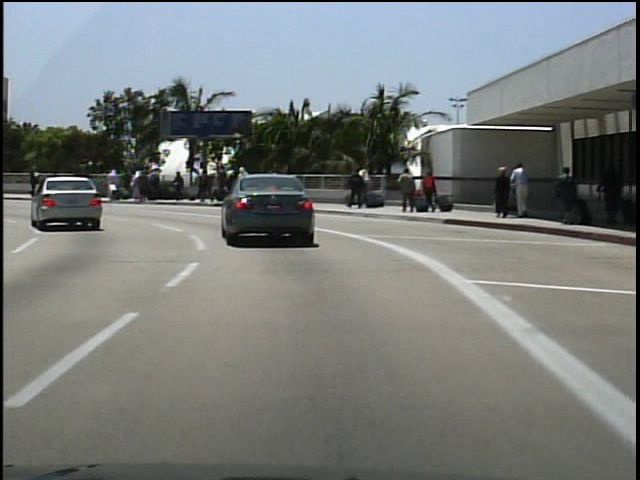person: (595, 158, 625, 228), (552, 165, 581, 227), (511, 161, 533, 220), (492, 166, 514, 222), (396, 166, 418, 215), (346, 168, 367, 211), (422, 168, 441, 212), (70, 167, 92, 196), (29, 164, 46, 199), (54, 168, 70, 199)
